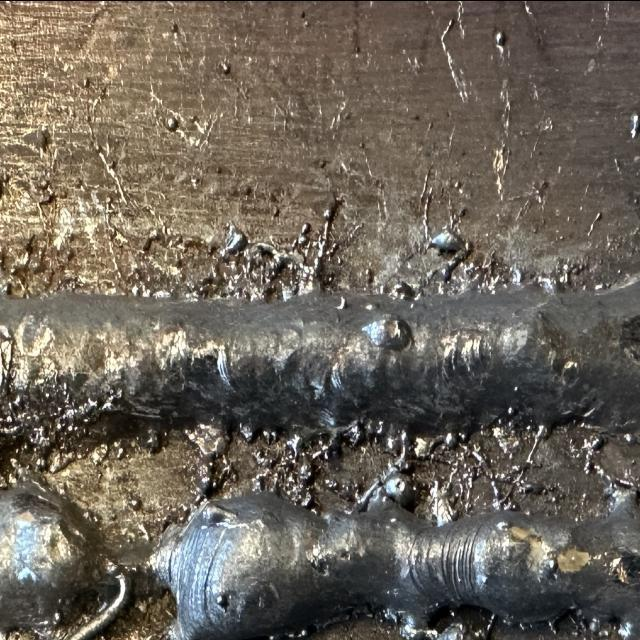Spatters: (630, 114, 640, 138), (494, 30, 504, 46), (542, 117, 552, 129), (452, 183, 460, 190), (590, 212, 598, 218)
